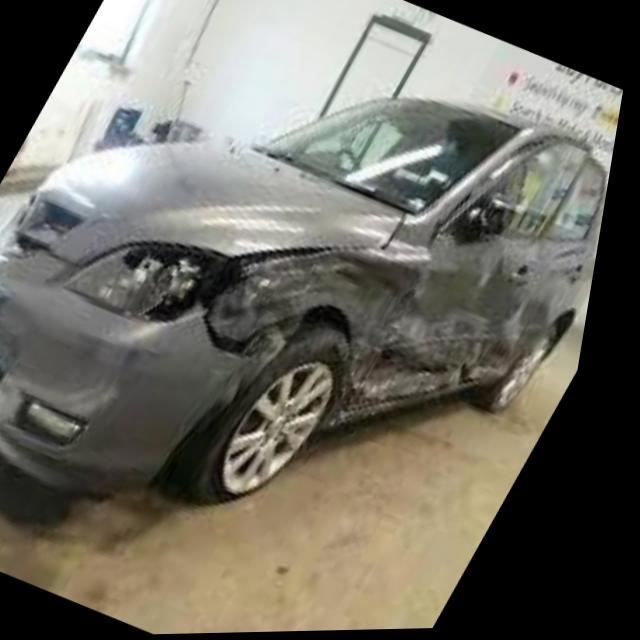dent: (154, 227, 594, 431)
